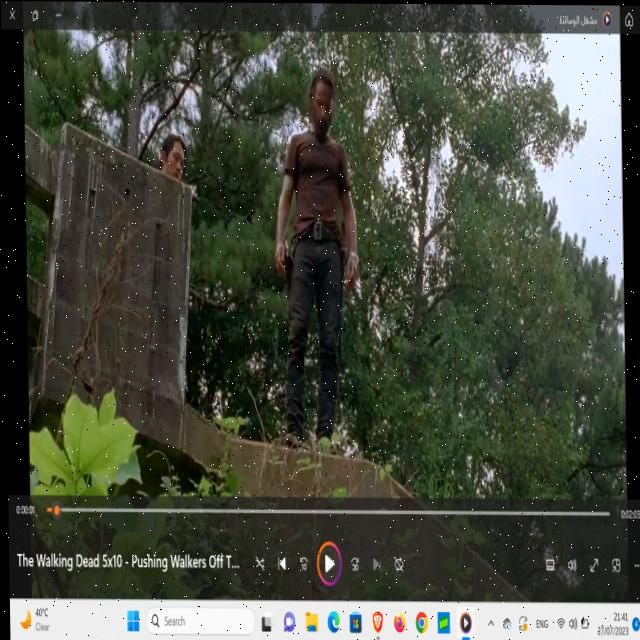human: (309, 67, 334, 131), (160, 130, 183, 176)
